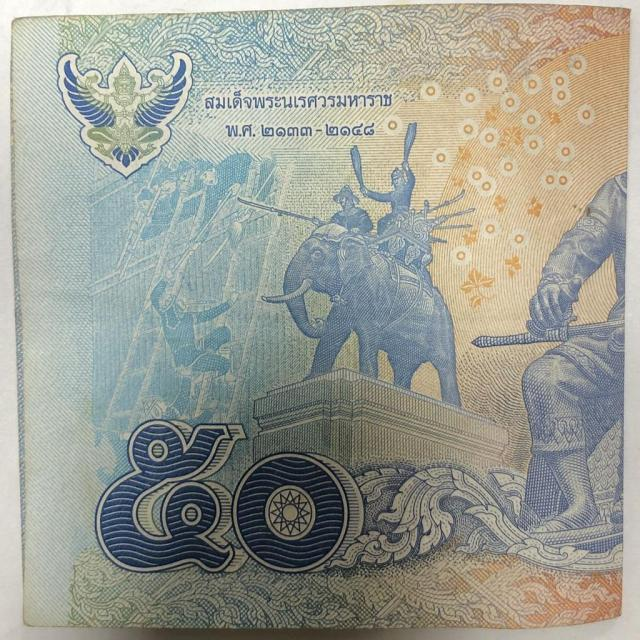THAI50: (8, 2, 632, 639)
